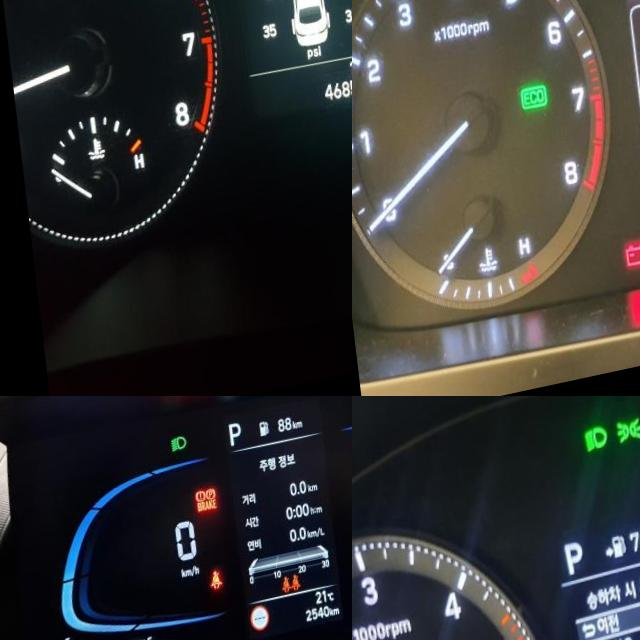Low beam: (573, 435, 603, 467), (163, 445, 180, 463)
SideLamp: (606, 426, 638, 461), (348, 414, 352, 432)
